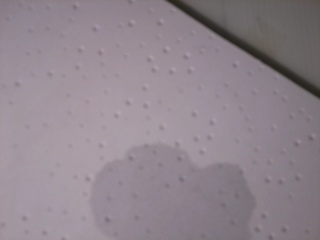Water_detected: (106, 156, 212, 240)
